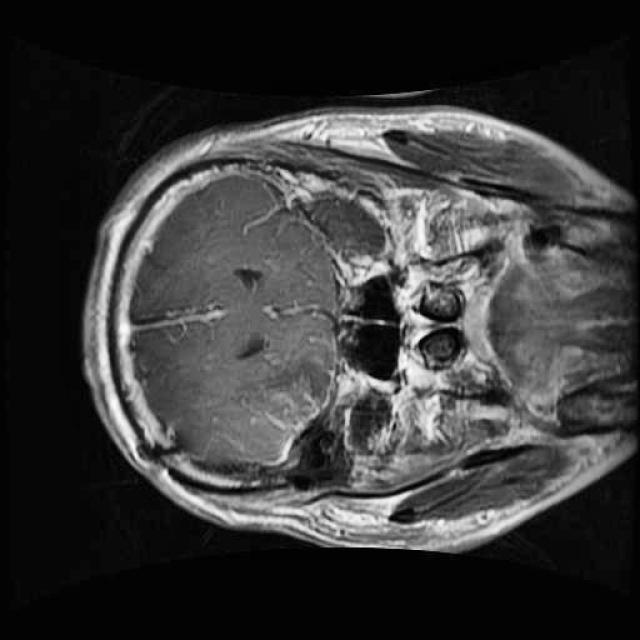Non-Tumor: (189, 371, 411, 514)
